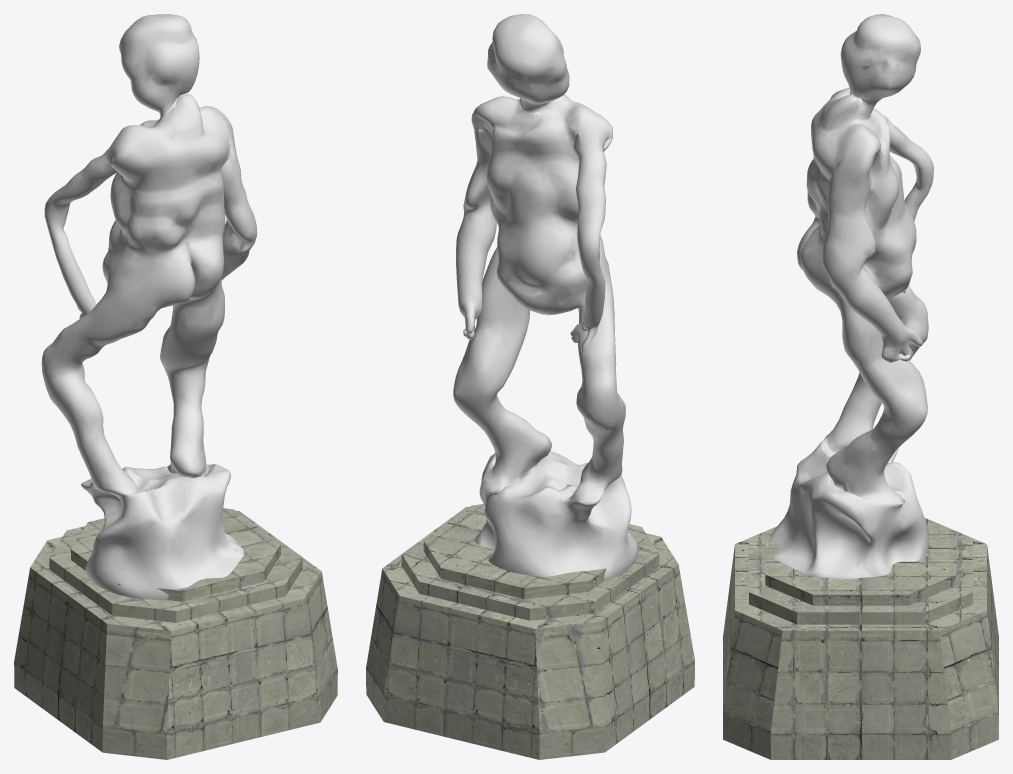
File: SM_Scaffoldingue_Statue_00.fbx
3 views of the same model, side by side, from view 1: azimuth 30°, elevation 25°; view 2: azimuth 150°, elevation 25°; view 3: azimuth 270°, elevation 25° (orthographic).
Visible parts, largest first — view 1: SM_Scaffoldingue_Statue_00; view 2: SM_Scaffoldingue_Statue_00; view 3: SM_Scaffoldingue_Statue_00.
Boxes of the visible parts, <box> form: SM_Scaffoldingue_Statue_00: <box>14,14,337,759</box>; SM_Scaffoldingue_Statue_00: <box>366,14,694,759</box>; SM_Scaffoldingue_Statue_00: <box>723,14,998,759</box>.
Size of the model in its own units: 235 by 639 by 235.
